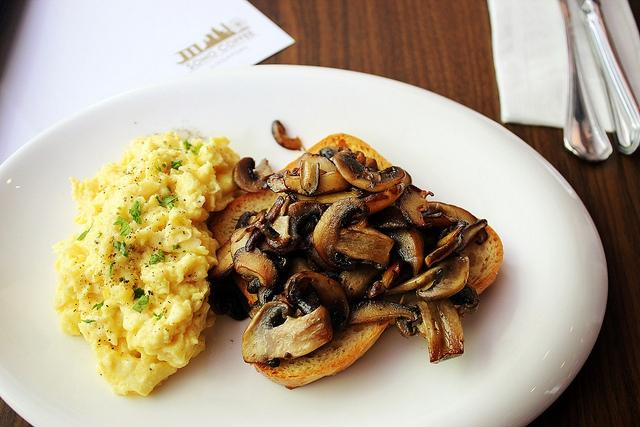mushroom: (396, 284, 478, 364), (242, 301, 333, 368), (312, 198, 394, 270), (376, 251, 469, 302), (256, 200, 332, 254), (284, 270, 350, 330), (332, 152, 406, 192), (377, 220, 424, 278), (232, 247, 280, 294), (342, 299, 418, 327), (364, 251, 402, 298), (282, 170, 350, 196), (338, 264, 380, 304), (398, 184, 434, 228), (424, 229, 464, 268), (232, 157, 274, 192), (360, 183, 405, 215), (294, 188, 362, 204), (272, 120, 302, 150), (293, 152, 338, 172), (250, 214, 280, 240), (422, 212, 459, 232), (300, 160, 320, 195), (236, 210, 266, 230), (265, 195, 285, 220)
